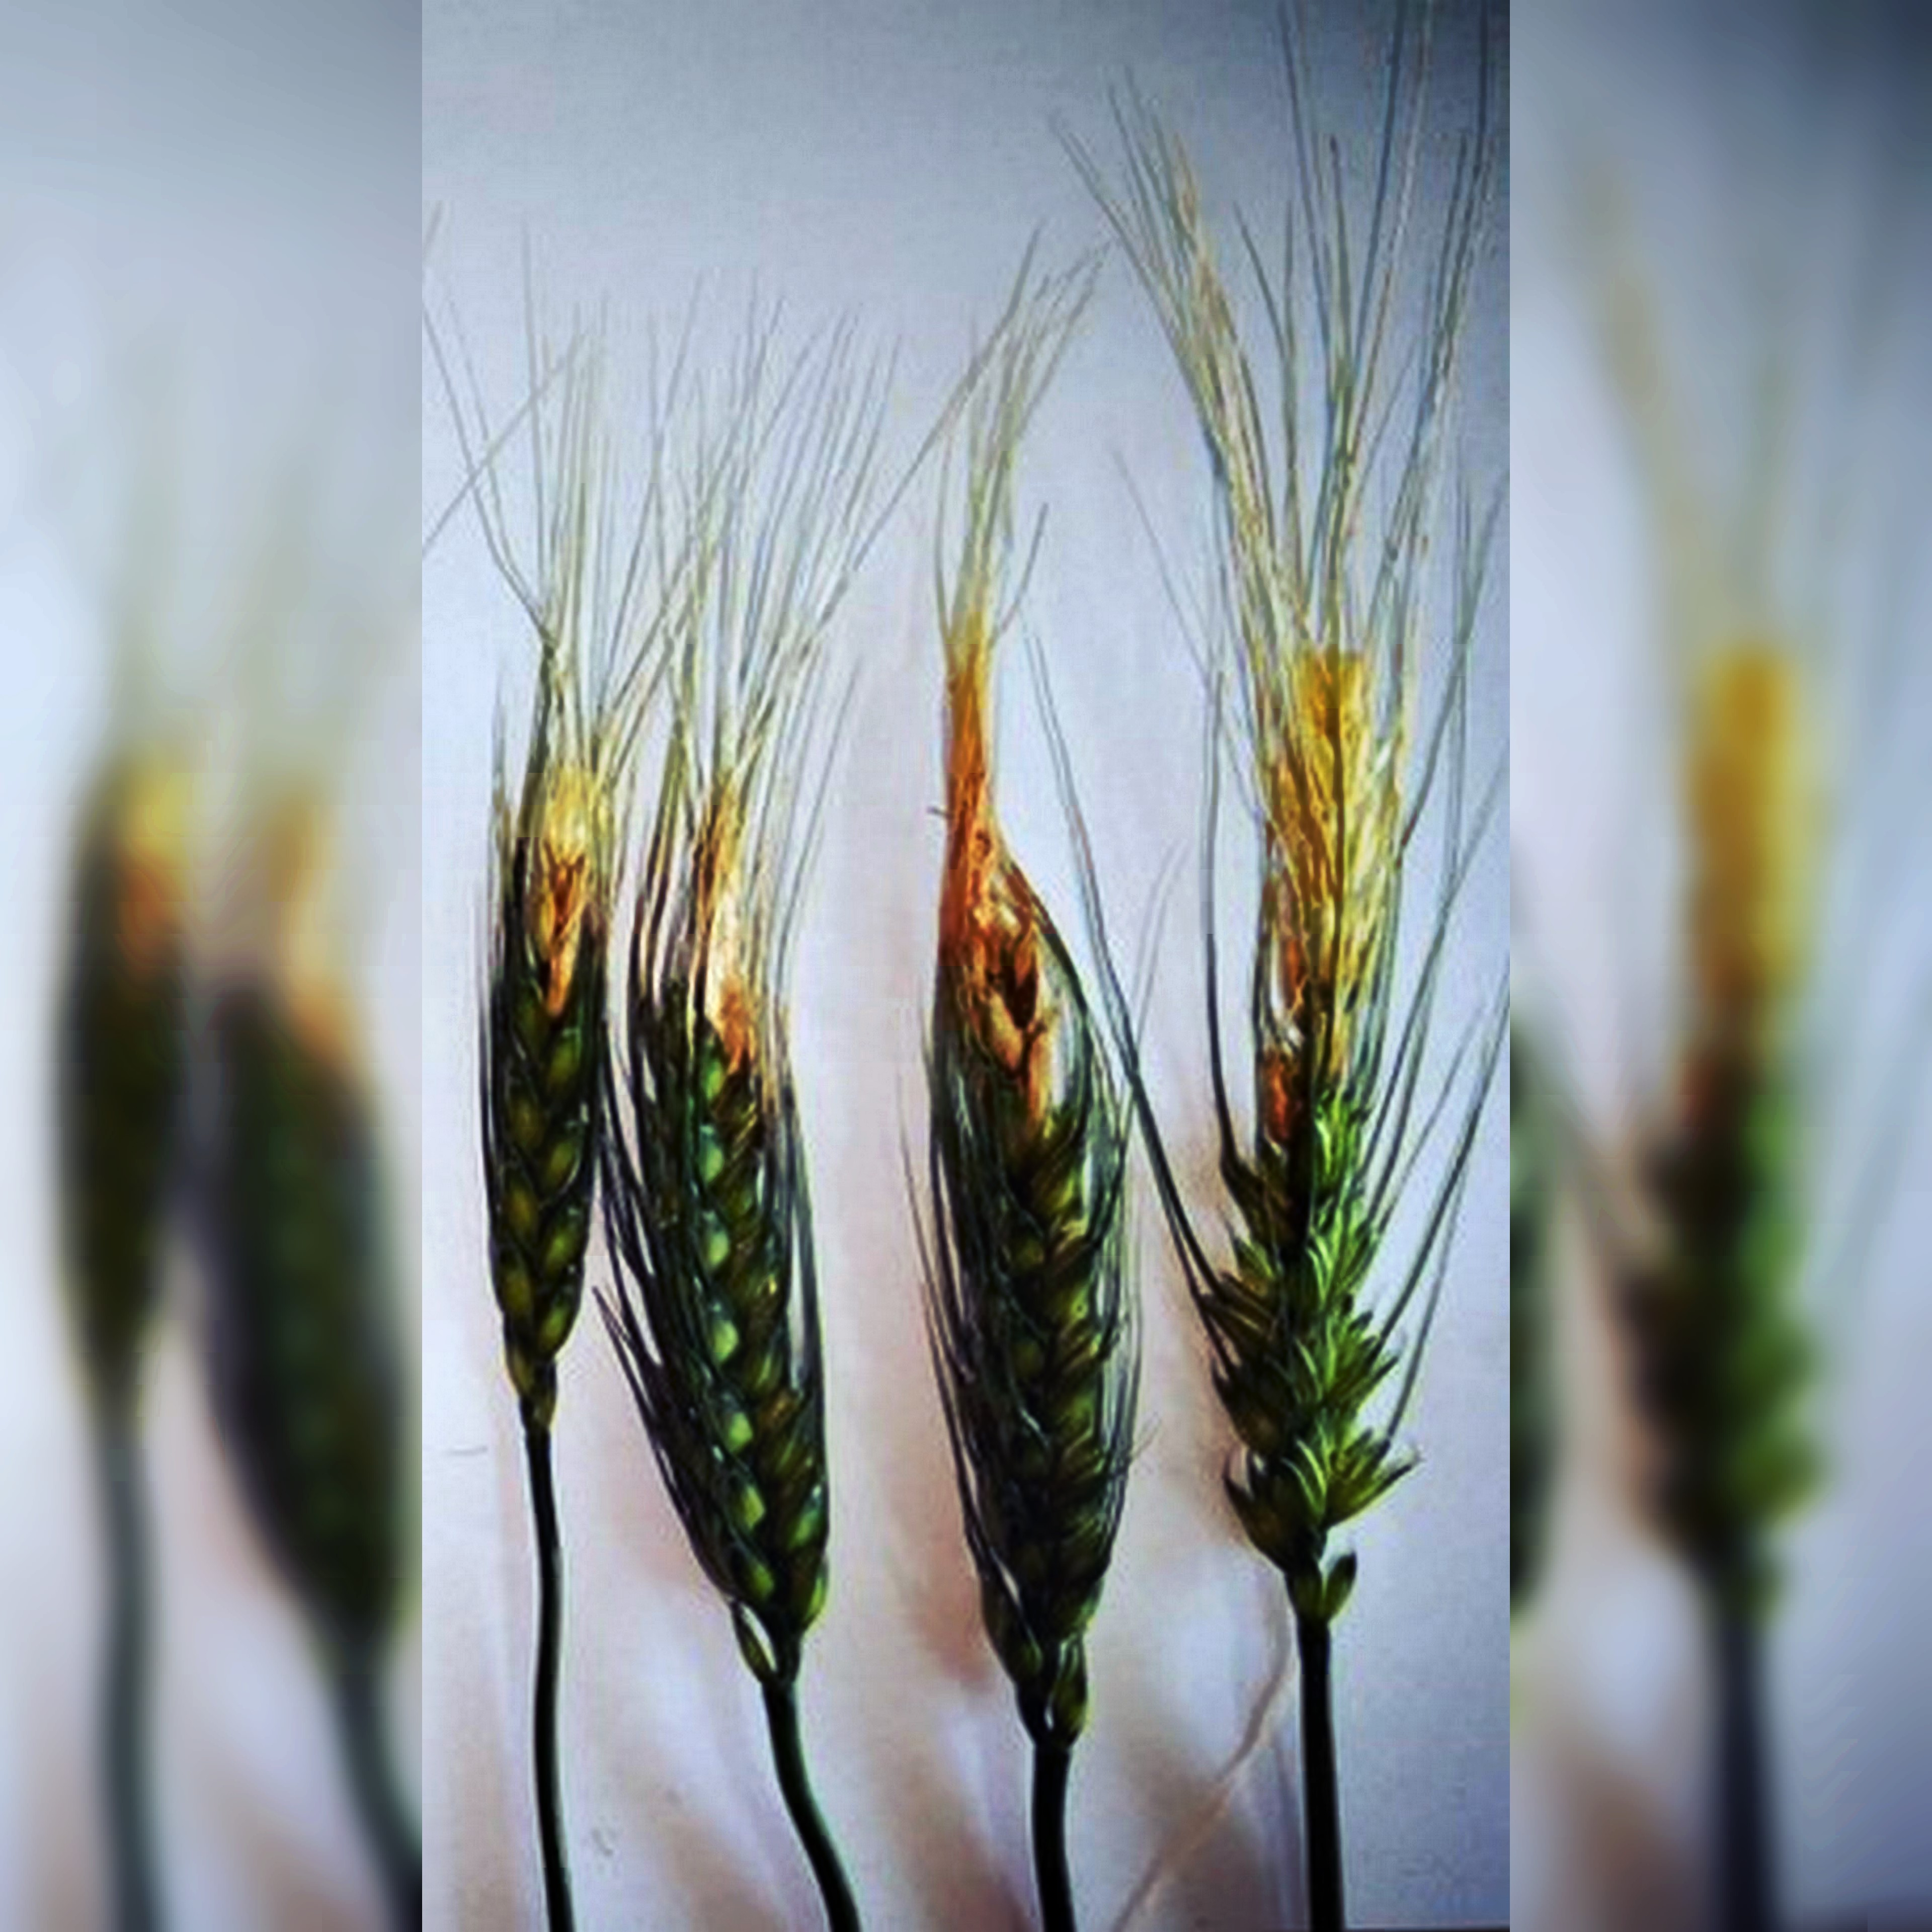Wheat scab: (435, 594, 870, 1660), (901, 660, 1191, 1729), (1212, 580, 1481, 1564)
